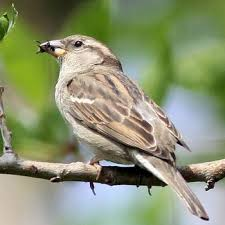hsparrow: (30, 31, 216, 222)
